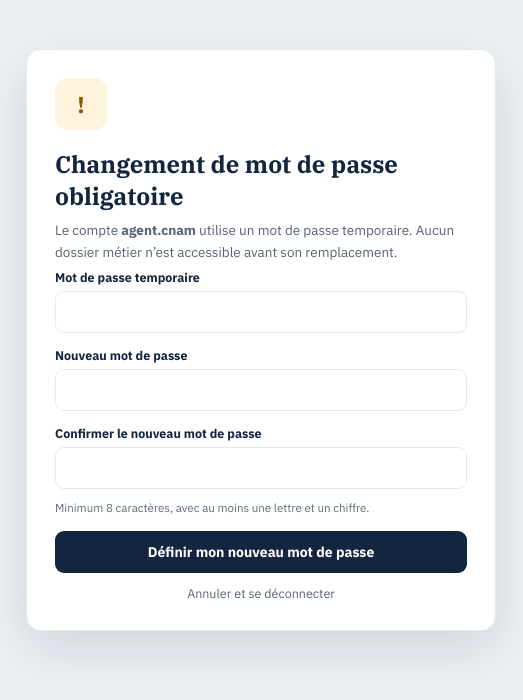
Test: ChangePasswordScreen › bloque un nouveau mot de passe trop faible
This screenshot has width=523, height=700.
Type "Temporaire-1" into the 1st password field at {"x": 261, "y": 312}, box 55,292 -> 467,334
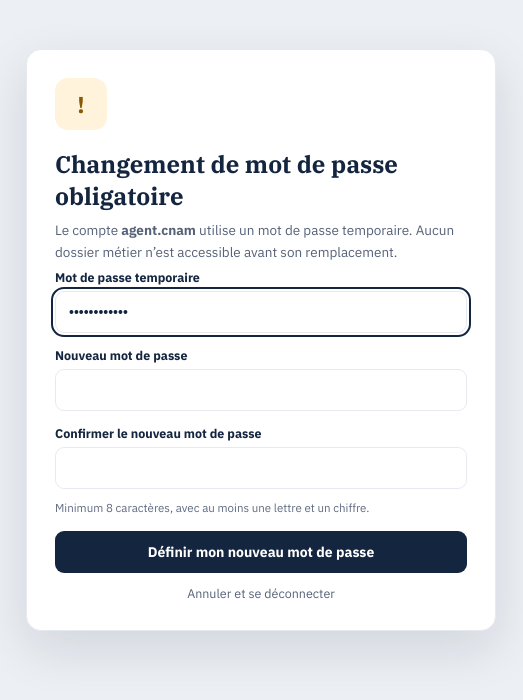
Type "faible" into the 2nd password field at {"x": 261, "y": 390}, box 55,370 -> 467,412
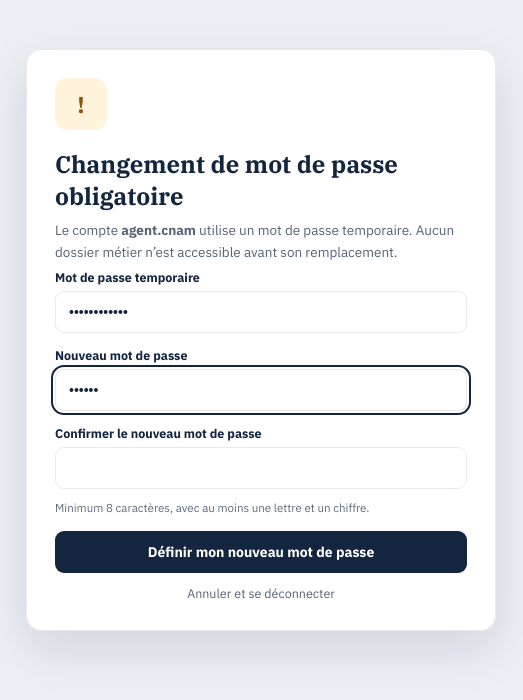
Type "faible" into the password field below "Confirmer le nouveau mot de passe" at {"x": 261, "y": 468}, box 55,448 -> 467,490
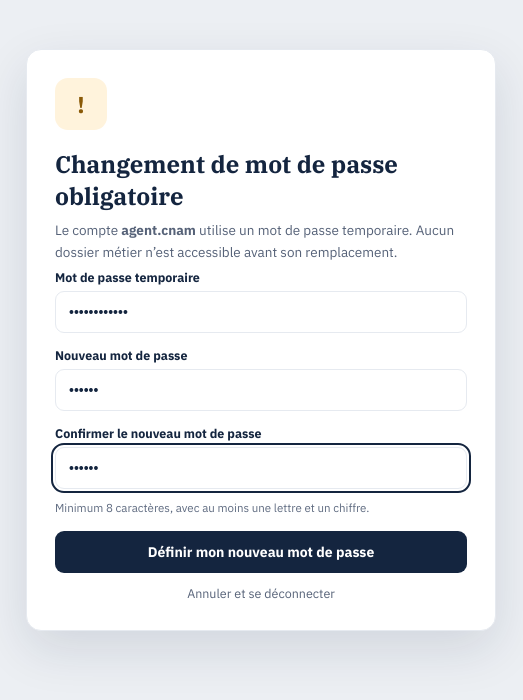
Click the button "Définir mon nouveau mot de passe" at {"x": 261, "y": 552}, box 55,531 -> 467,573
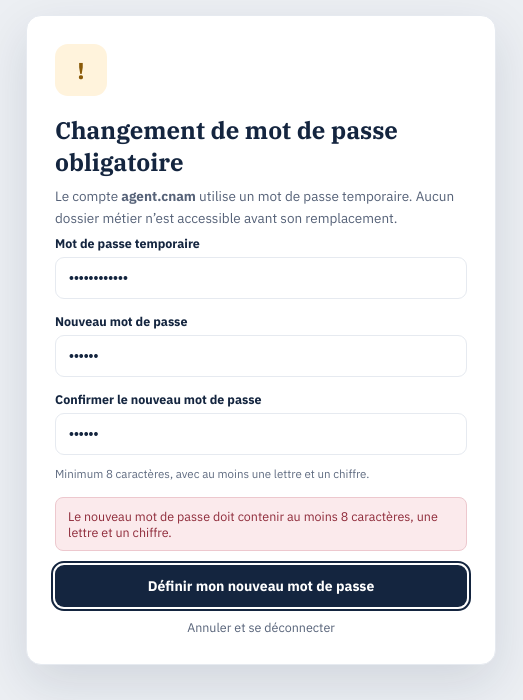
Expected: the message shows "au moins 8 caractères, une lettre et un chiffre", 68,508 -> 438,540
